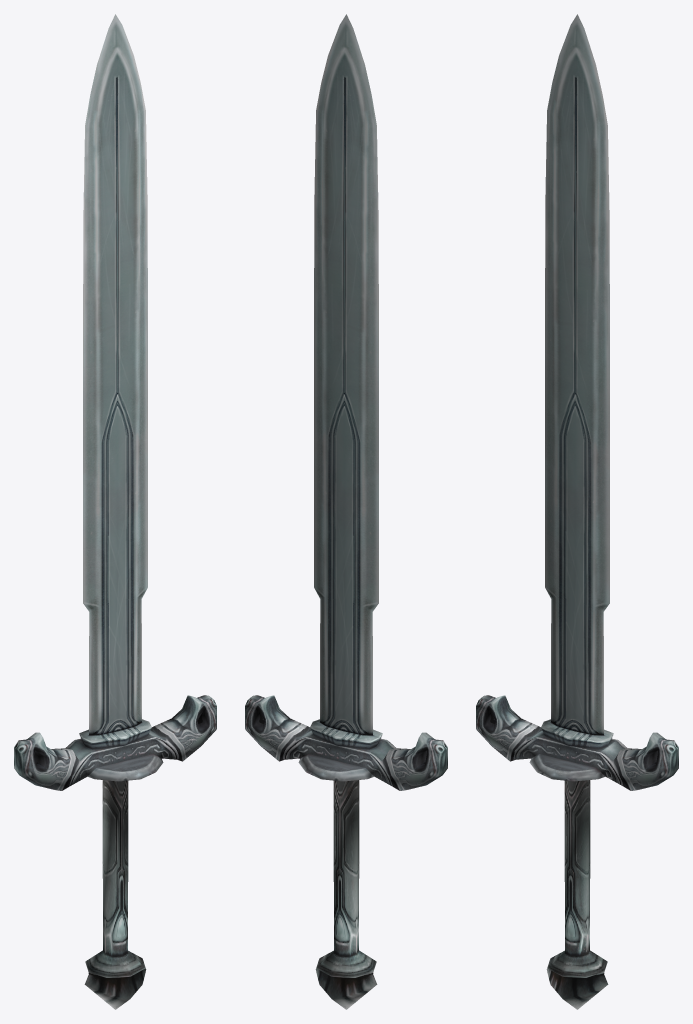
File: sword_bastard.FBX
The picture shows the model from 3 angles, left to right: view 1: azimuth 30°, elevation 25°; view 2: azimuth 150°, elevation 25°; view 3: azimuth 330°, elevation 25°; orthographic projection.
Visible parts, largest first — view 1: sword_bastard; view 2: sword_bastard; view 3: sword_bastard.
Part boxes in pixels (x1,y1,x2,y2): sword_bastard: [14, 14, 216, 1009]; sword_bastard: [245, 14, 447, 1009]; sword_bastard: [476, 14, 678, 1009].
Size of what is drawn, in the model's own units: 22.06 by 106 by 9.71.
